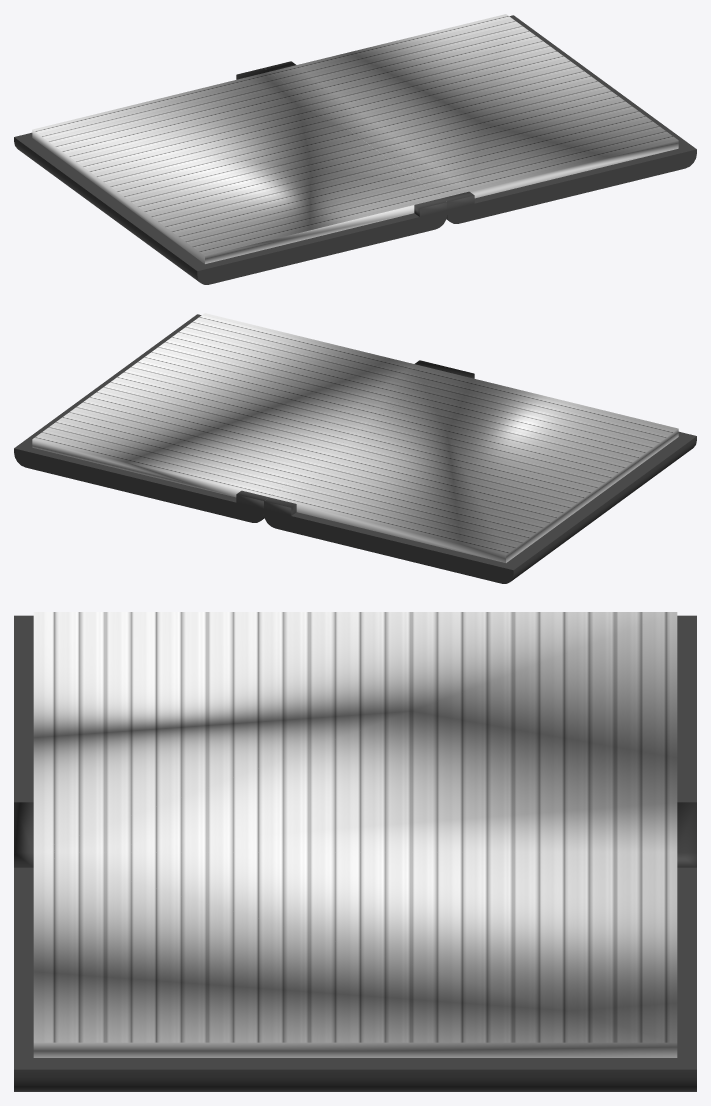
File: buku1 (1).fbx
3 renders of one model, top to bottom at view 1: azimuth 30°, elevation 25°; view 2: azimuth 150°, elevation 25°; view 3: azimuth 270°, elevation 25°, orthographic. The views are drawn at different scales.
Visible parts, largest first — view 1: buku; view 2: buku; view 3: buku.
Part boxes in pixels (x1,y1,x2,y2): buku: (14, 14, 696, 284); buku: (14, 313, 696, 583); buku: (14, 612, 696, 1091).
Bounding box in the file's own units: 26.11 × 1.23 × 16.6.
3 materials, 1 textured.
